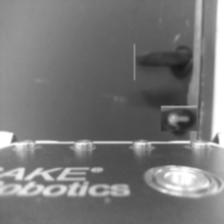Door Handle: (134, 44, 193, 80)
Lock: (164, 104, 195, 134)
